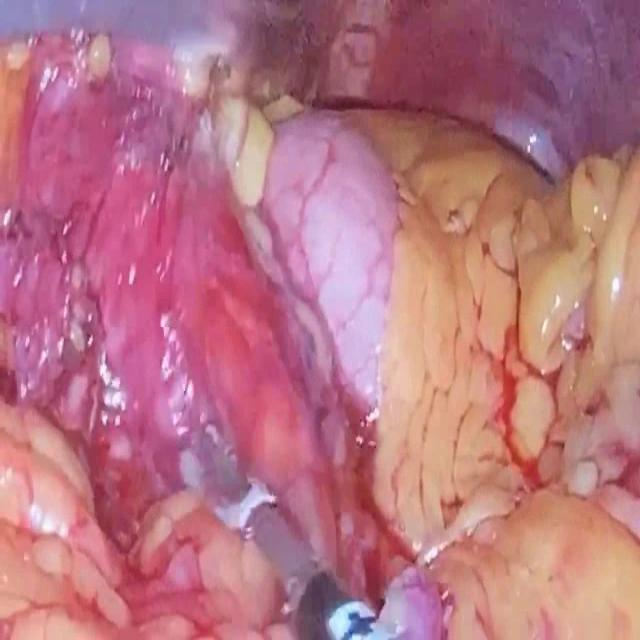surgical-tool: (186, 419, 386, 639)
